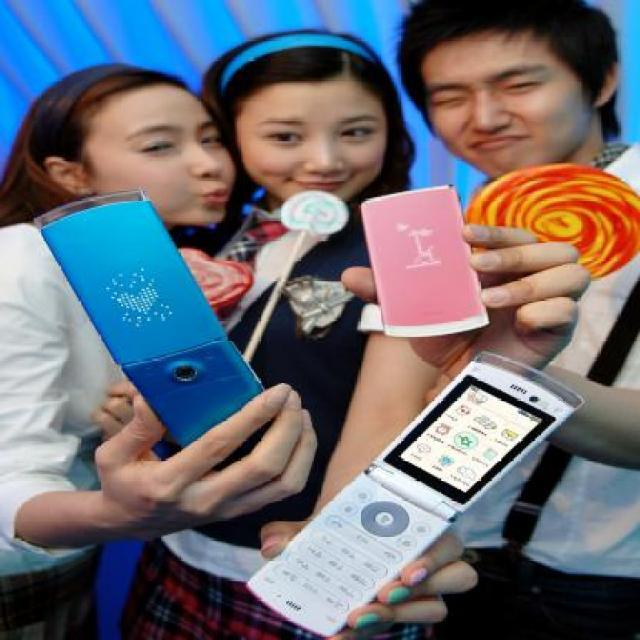Candy: (461, 157, 625, 248), (177, 240, 245, 304), (276, 187, 346, 239)
